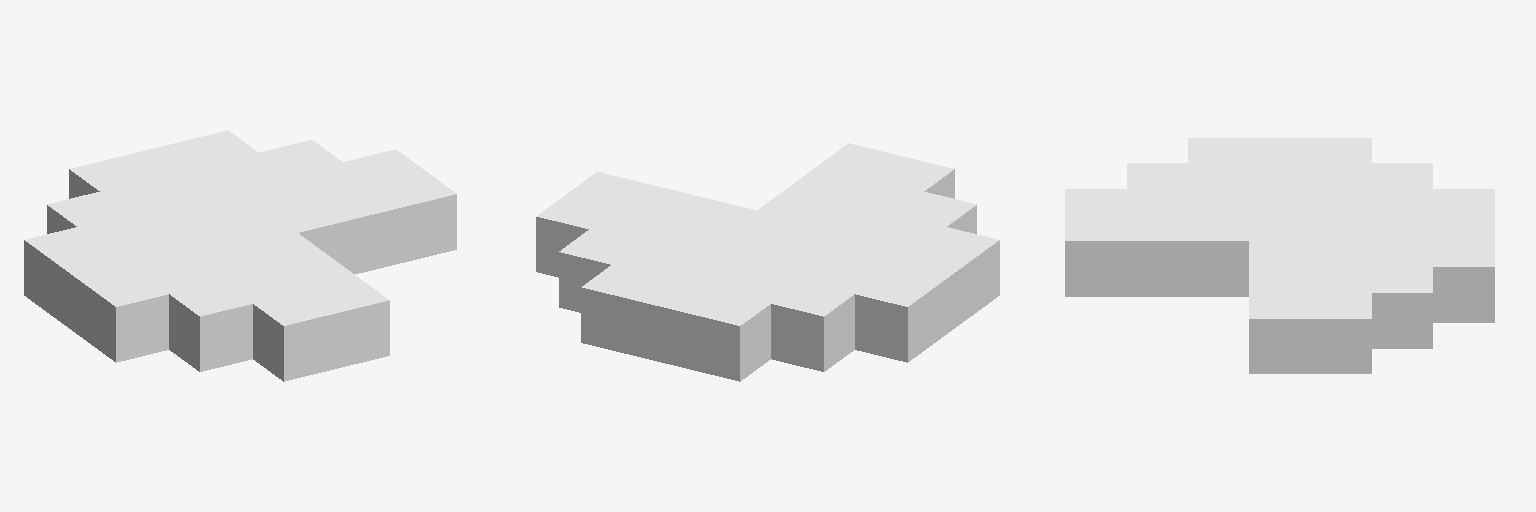
The model's file is CrossyLillyPad.obj.
3 views of the same model, side by side, from view 1: azimuth 30°, elevation 25°; view 2: azimuth 150°, elevation 25°; view 3: azimuth 270°, elevation 25° (orthographic).
Parts seen in each view (by area): view 1: object 1; view 2: object 1; view 3: object 1.
Boxes of the visible parts, <box> form: object 1: <box>24,130,456,381</box>; object 1: <box>536,143,999,381</box>; object 1: <box>1065,138,1494,373</box>.
Size of the model in its own units: 0.7 by 0.1 by 0.7.